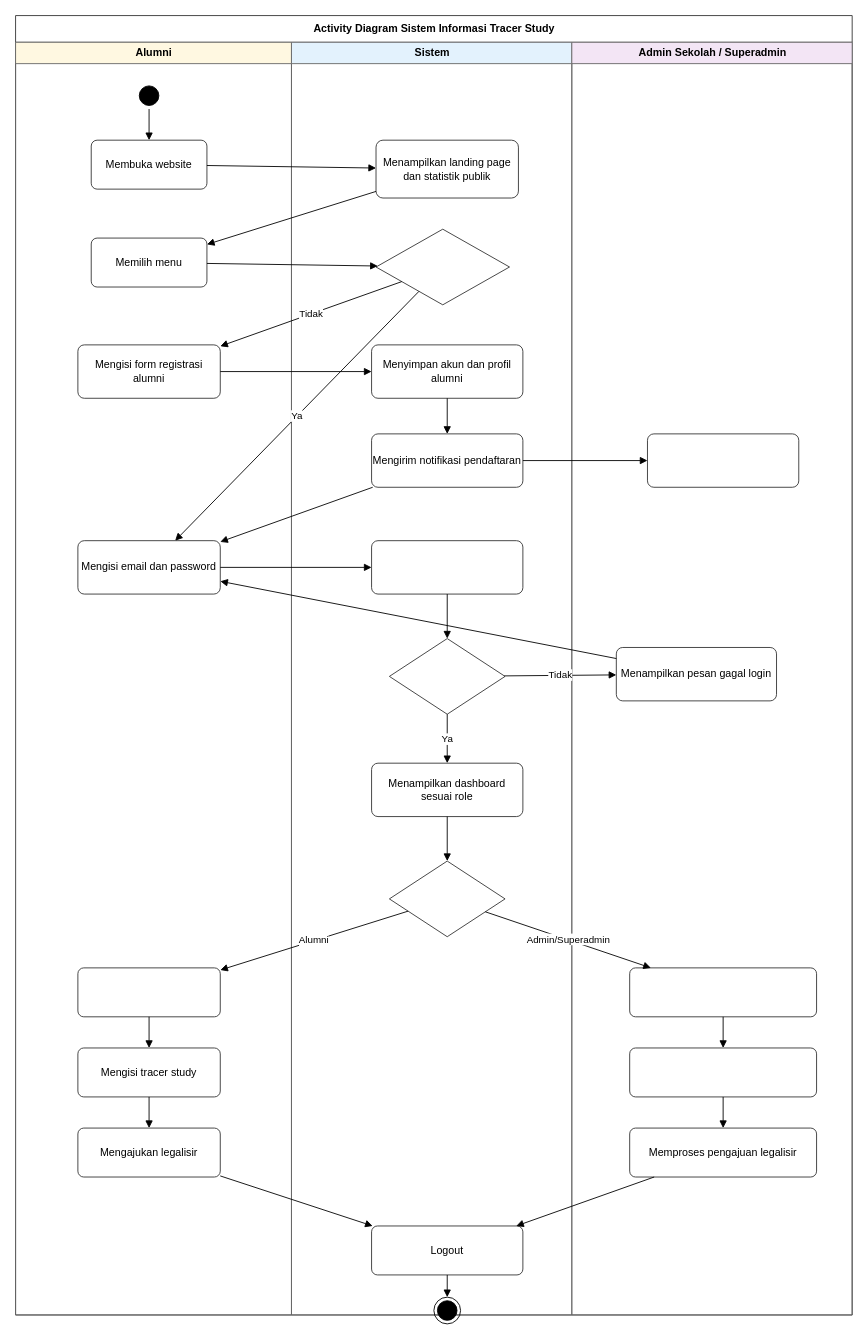
This 868x1339 diagram has some shape labels left out. The centre of each missing label's shape, as x and y in pixels:
"Login valid?" goes at [446,676].
"Melihat data tracer alumni" goes at [723,1072].
"Memvalidasi data login" goes at [447,567].
"Mengelola master data" goes at [723,992].
"Mengelola profil alumni" goes at [148,992].
"Meninjau pendaftaran alumni" goes at [723,460].
"Role pengguna" goes at [446,898].
"Sudah punya akun?" goes at [442,266].
